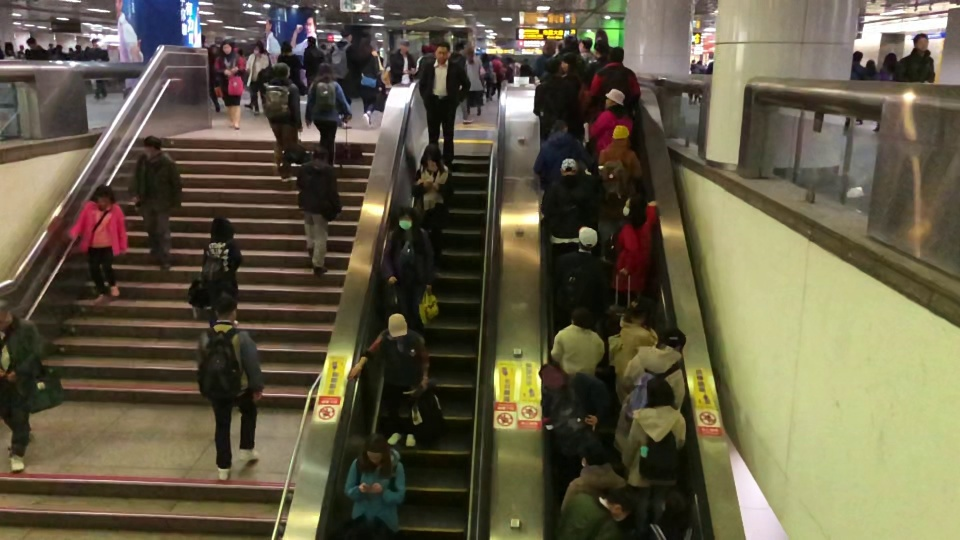person_head: (604, 488, 635, 520), (537, 363, 568, 391), (362, 433, 388, 463), (208, 214, 235, 241), (214, 292, 239, 321), (631, 298, 657, 325), (648, 379, 673, 406), (622, 192, 646, 220), (660, 327, 686, 350), (386, 312, 408, 338), (577, 225, 599, 251), (567, 306, 593, 328), (420, 142, 441, 169), (581, 443, 606, 465), (396, 205, 418, 229), (94, 183, 114, 208), (603, 88, 625, 110), (142, 135, 161, 155), (560, 53, 577, 75), (559, 157, 579, 175), (434, 41, 450, 63), (612, 124, 630, 143), (911, 33, 930, 51), (311, 146, 328, 165), (543, 57, 560, 76), (271, 62, 290, 78), (593, 40, 609, 58), (0, 297, 10, 325), (609, 47, 624, 64), (549, 119, 567, 132), (882, 53, 896, 69), (542, 39, 554, 57), (220, 39, 234, 54), (317, 61, 331, 76), (360, 30, 371, 49), (579, 36, 592, 51), (563, 35, 578, 47), (339, 28, 352, 41), (280, 40, 292, 54), (852, 50, 863, 63), (463, 44, 473, 58), (866, 60, 875, 75), (252, 43, 264, 54), (400, 39, 409, 53), (307, 35, 315, 49), (27, 36, 36, 48), (92, 39, 97, 48), (697, 60, 703, 64)
person_vbox: (195, 292, 264, 482), (621, 378, 688, 540), (349, 312, 428, 447), (613, 327, 687, 456), (0, 297, 48, 472), (67, 183, 129, 307), (127, 135, 183, 272), (536, 362, 609, 457), (342, 433, 405, 540), (381, 205, 436, 326), (418, 41, 470, 167), (295, 146, 342, 275), (598, 124, 642, 256), (410, 142, 454, 272), (187, 216, 243, 314), (607, 298, 658, 403), (552, 225, 610, 315), (304, 60, 353, 165), (539, 157, 594, 250), (261, 62, 303, 183), (610, 192, 658, 297), (559, 442, 624, 510), (558, 488, 637, 540), (531, 118, 592, 184), (550, 305, 605, 378), (534, 56, 584, 129), (589, 46, 641, 107), (587, 88, 634, 153), (215, 39, 246, 131), (355, 29, 381, 128), (330, 28, 354, 129), (871, 52, 896, 133), (896, 33, 935, 84), (245, 44, 270, 117), (277, 42, 305, 95), (464, 46, 485, 116), (845, 50, 863, 130), (90, 40, 110, 101), (389, 40, 416, 85), (303, 35, 324, 85), (586, 40, 609, 80), (558, 36, 585, 66), (533, 38, 554, 72), (25, 37, 47, 62), (695, 62, 705, 105)
